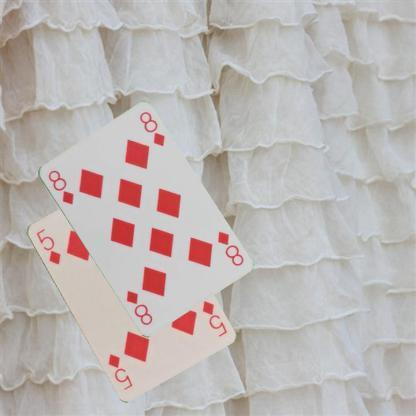5d: (198, 297, 228, 338), (33, 225, 62, 266)
8d: (214, 228, 244, 268), (45, 168, 75, 206)
